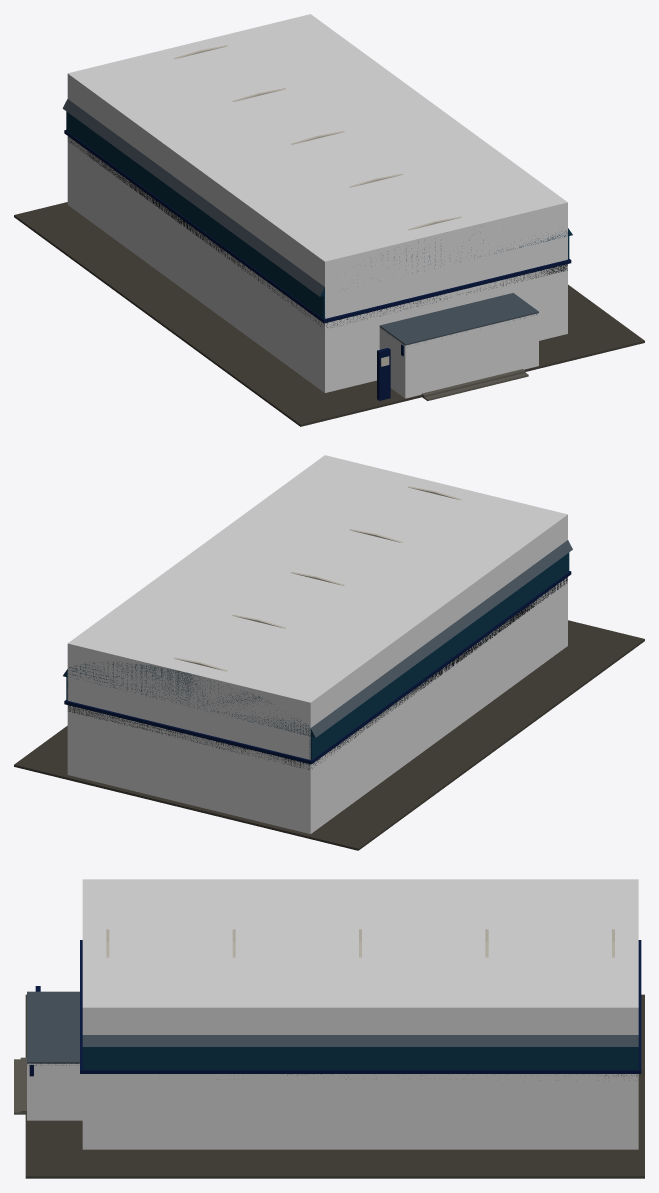
Rendered from B30_metro_station.glb.
3 views of the same model, one above another, from view 1: azimuth 30°, elevation 25°; view 2: azimuth 150°, elevation 25°; view 3: azimuth 270°, elevation 25° (orthographic). The views are drawn at different scales.
Visible parts, largest first — view 1: COL_Main, LOD0, COL_Verandah; view 2: COL_Main, LOD0; view 3: COL_Main, LOD0, COL_Verandah.
Part boxes in pixels (bbox=[...]): COL_Main: bbox=[67, 14, 567, 392]; LOD0: bbox=[14, 45, 644, 426]; COL_Verandah: bbox=[379, 313, 538, 398]; COL_Main: bbox=[67, 455, 567, 833]; LOD0: bbox=[14, 486, 644, 850]; COL_Main: bbox=[82, 879, 638, 1149]; LOD0: bbox=[14, 929, 644, 1178]; COL_Verandah: bbox=[27, 1063, 82, 1120].
Size of what is drawn, in the model's own units: 34 by 12.74 by 49.92.
